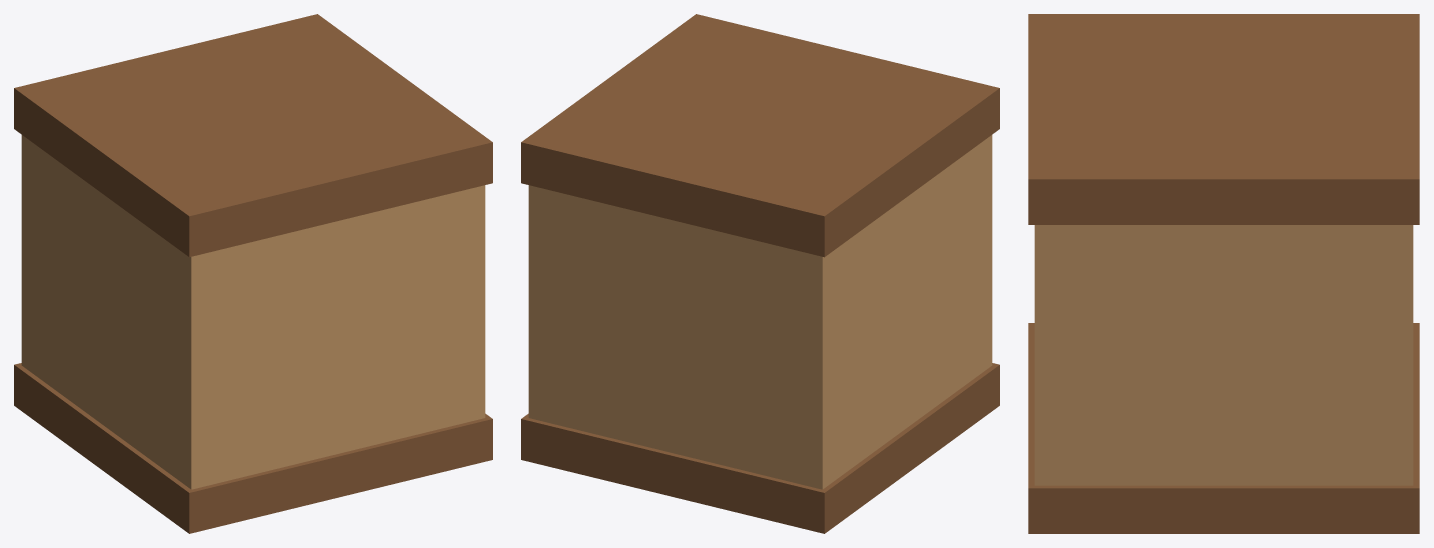
Rendered from crate.obj.
3 renders of one model, left to right at view 1: azimuth 30°, elevation 25°; view 2: azimuth 150°, elevation 25°; view 3: azimuth 270°, elevation 25°, orthographic. The views are drawn at different scales.
Visible parts, largest first — view 1: crate; view 2: crate; view 3: crate.
Boxes of the visible parts, x1,y1,x2,y2 form: crate: (14,14,492,533); crate: (521,14,999,533); crate: (1028,14,1419,533).
Bounding box in the file's own units: 0.62 × 0.62 × 0.62.
